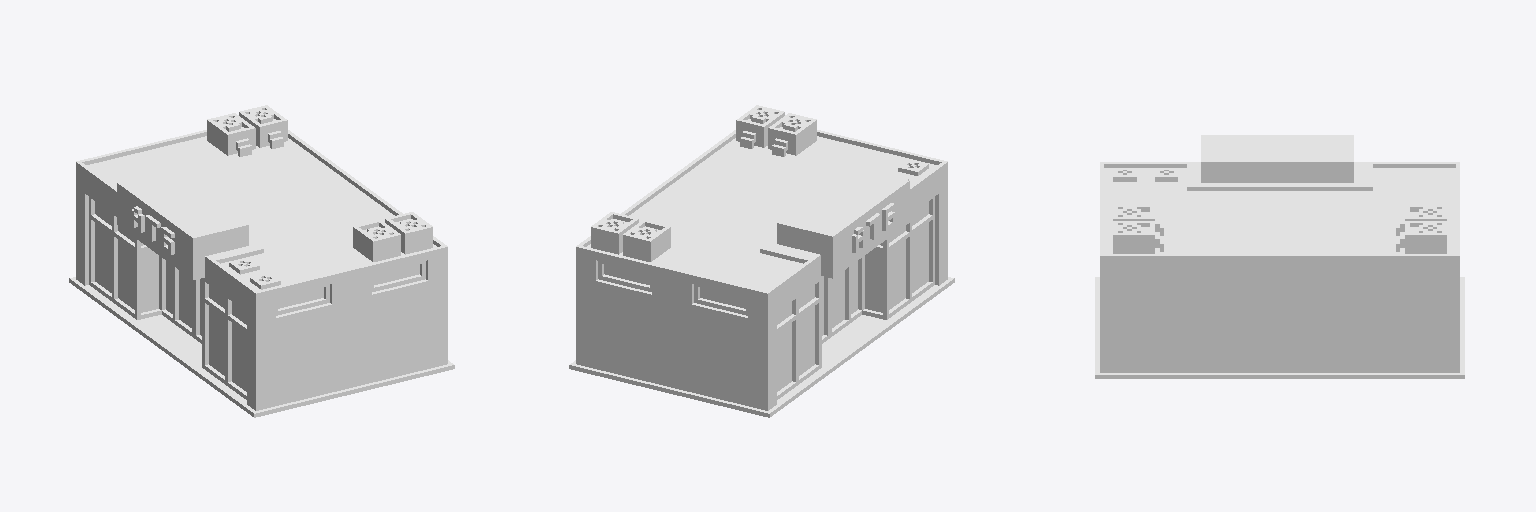
The model's file is ATB.obj.
3 views of the same model, side by side, from view 1: azimuth 30°, elevation 25°; view 2: azimuth 150°, elevation 25°; view 3: azimuth 270°, elevation 25° (orthographic).
Visible parts, largest first — view 1: object 1; view 2: object 1; view 3: object 1.
Boxes of the visible parts, x1=… form: object 1: x1=69, y1=105, x2=454, y2=417; object 1: x1=569, y1=105, x2=954, y2=417; object 1: x1=1095, y1=135, x2=1464, y2=378.
Size of the model in its own units: 5.3 by 3.4 by 8.